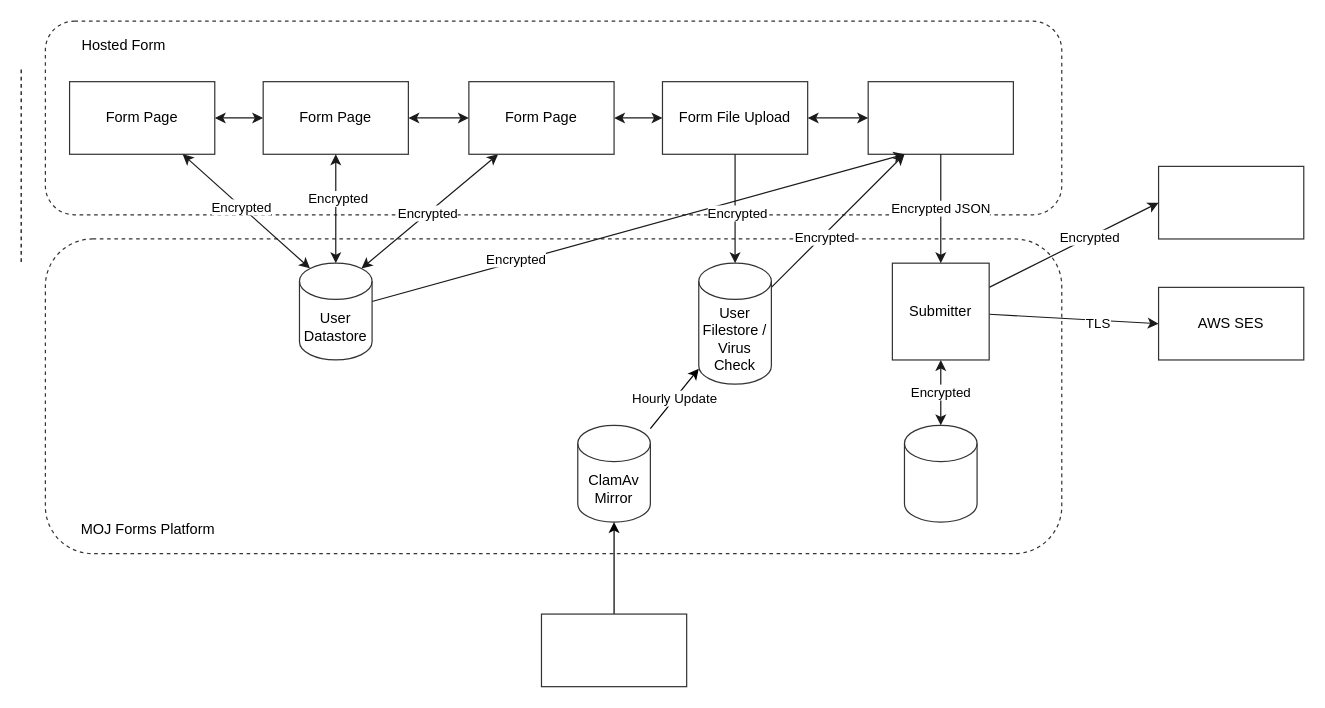
Some shapes in this 1325 by 708 pixel diagram are drawn without their labels. The centre of each missing label's shape, as x and y in pixels:
"CLAM AV DEFINITIONS" goes at point (613, 650).
"External API" goes at point (1230, 202).
"Form Submit" goes at point (940, 117).
"Submitter Queue" goes at point (940, 473).
